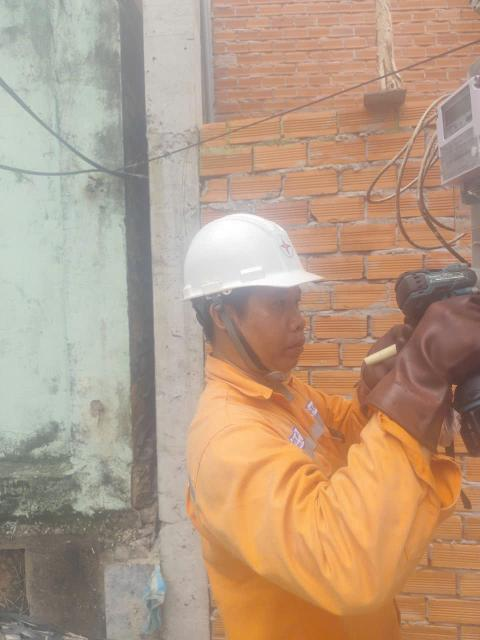gloves: (372, 290, 480, 448), (347, 302, 433, 408)
helmet: (160, 198, 313, 315)
